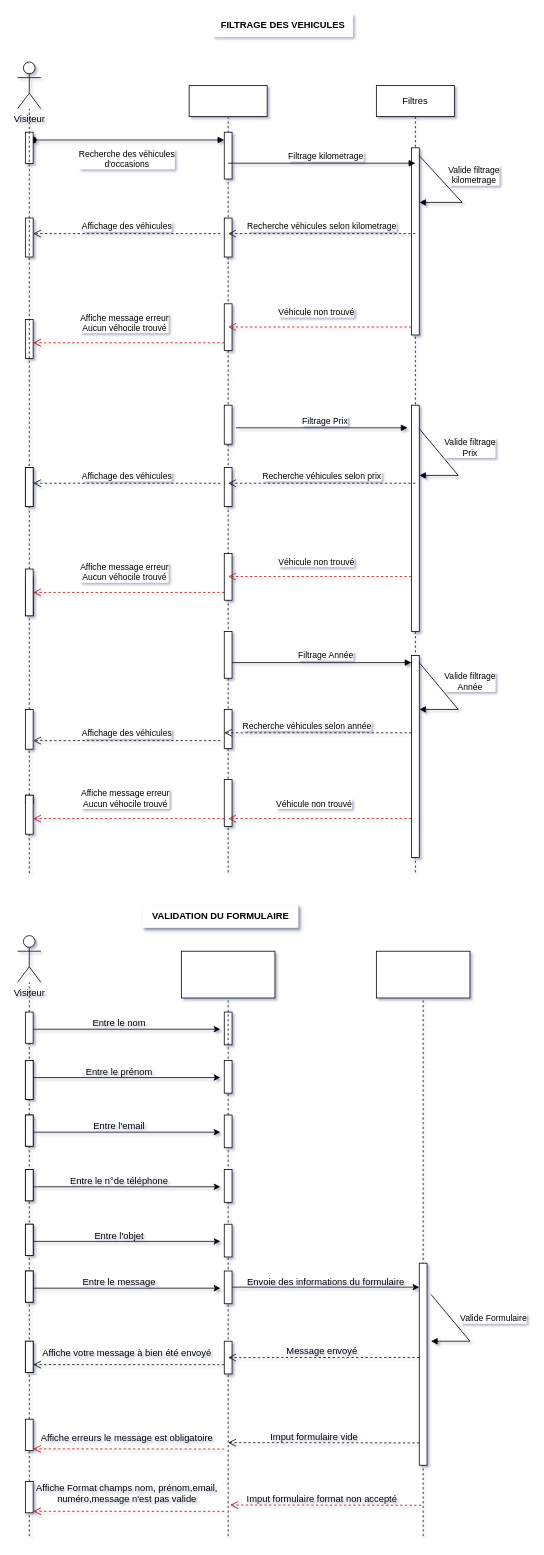
Some shapes in this 544 by 1555 pixel diagram are drawn without their labels. Here are the shapes that lost their labels. From the top down, the centre of each, then its label:
At point (227, 479): "Véhicules".
At point (228, 974): "Formulaire de contact".
At point (423, 974): "Message".
